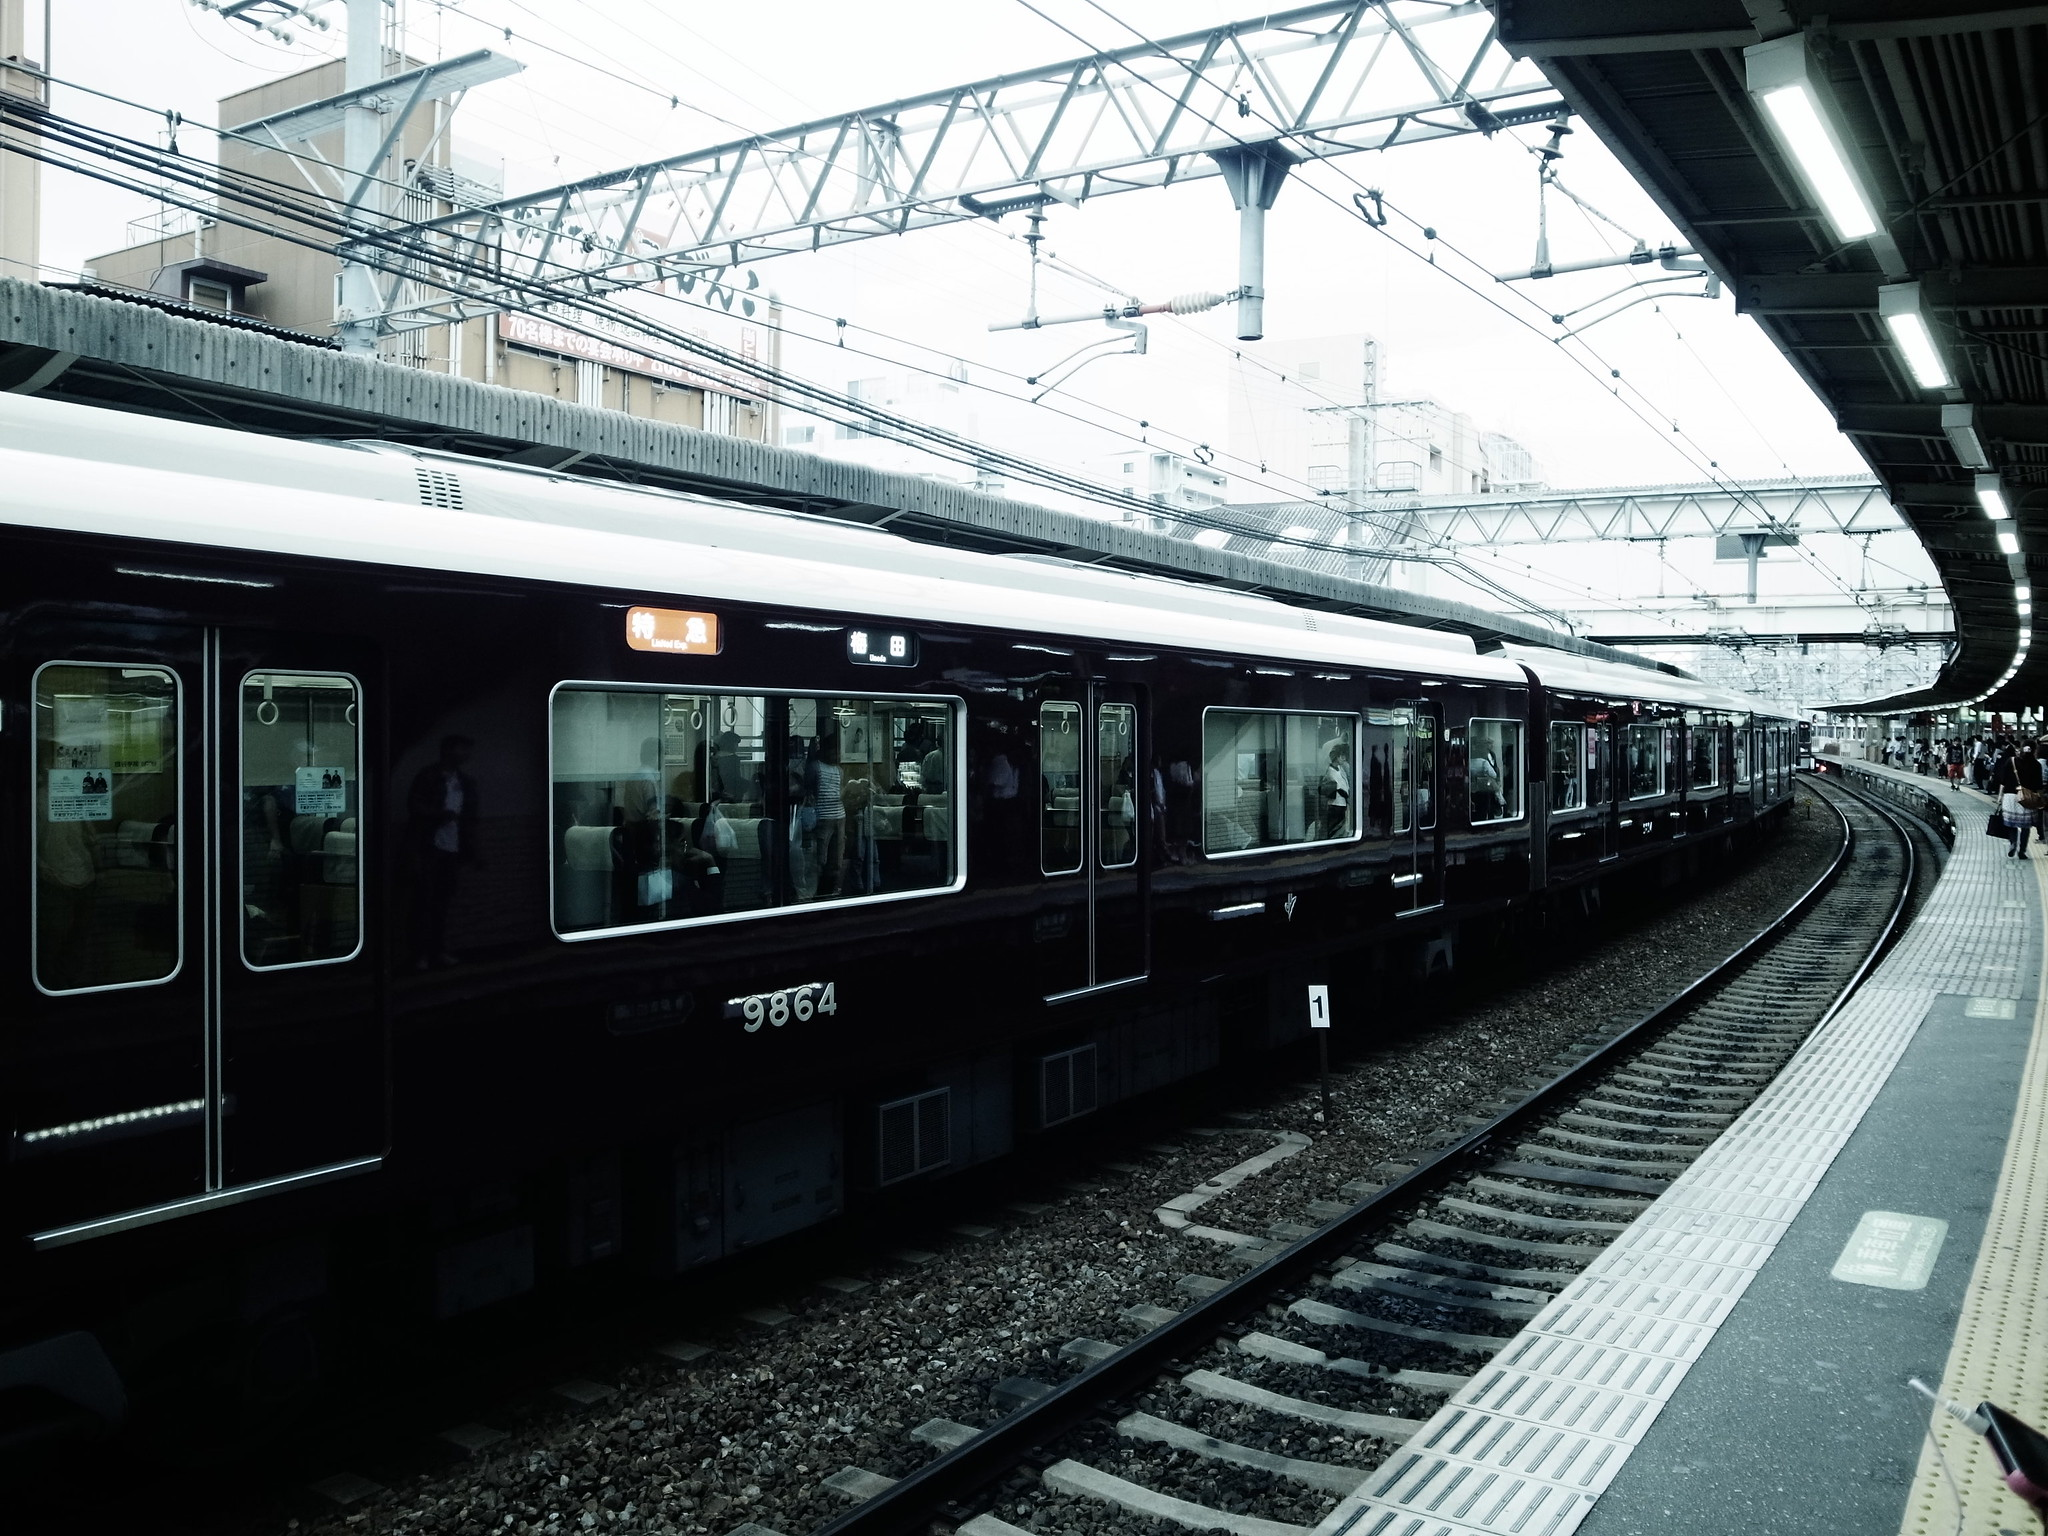train: (10, 374, 1822, 1454)
